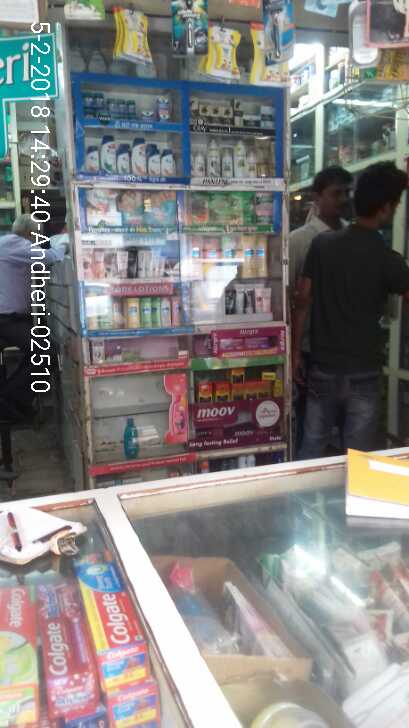vicks: (83, 89, 171, 121)
